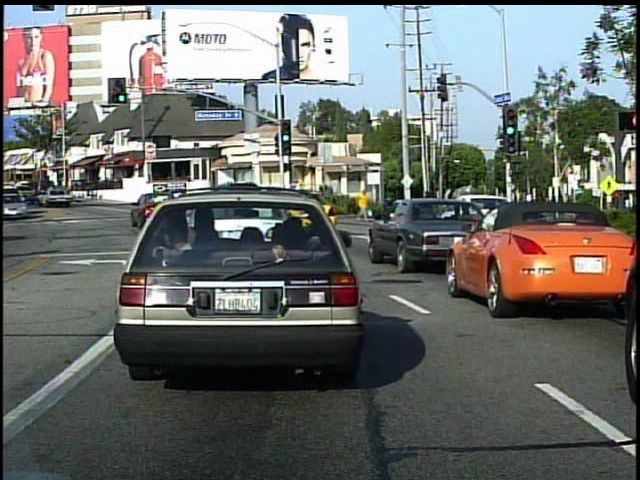person: (421, 186, 445, 232), (355, 185, 374, 225)
